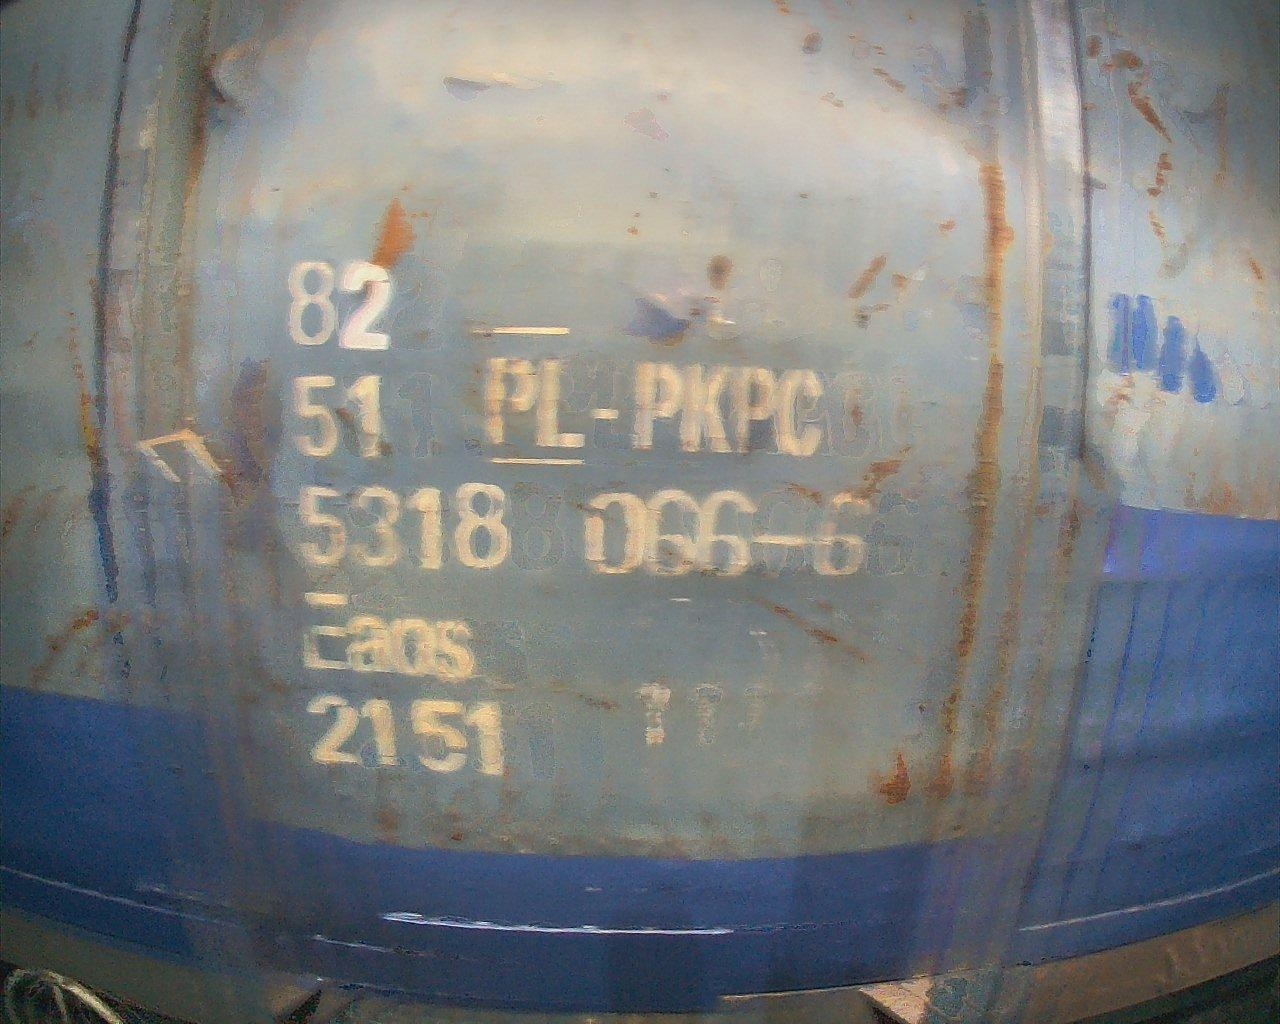UIC: (278, 252, 871, 785)
